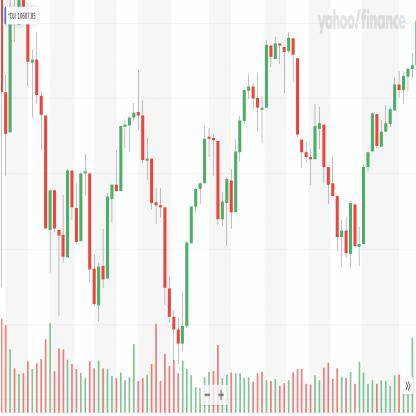Bearish: Evening Star Doji: (78, 151, 92, 285)
Bullish: 3 White Soldiers: (233, 86, 246, 217)
Bullish: Engulfing: (92, 250, 100, 325)
Bullish: Morning Star Doji: (255, 37, 269, 146), (353, 162, 366, 270)
